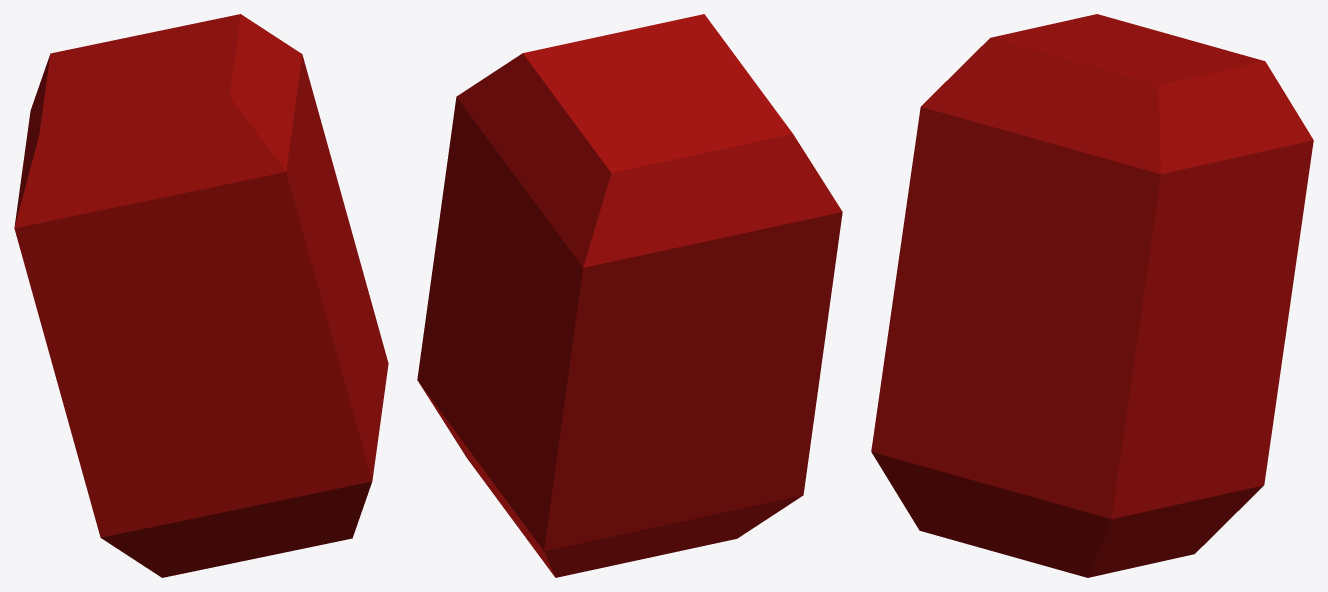
The model's file is town_jewel0005.obj.
3 renders of one model, left to right at view 1: azimuth 30°, elevation 25°; view 2: azimuth 150°, elevation 25°; view 3: azimuth 270°, elevation 25°, orthographic. The views are drawn at different scales.
Parts seen in each view (by area): view 1: RedJewel; view 2: RedJewel; view 3: RedJewel.
Part boxes in pixels (<box>): RedJewel: <box>14,14,388,577</box>; RedJewel: <box>417,14,842,577</box>; RedJewel: <box>871,14,1313,577</box>.
Bounding box in the file's own units: 1.03 × 1.21 × 0.985.
